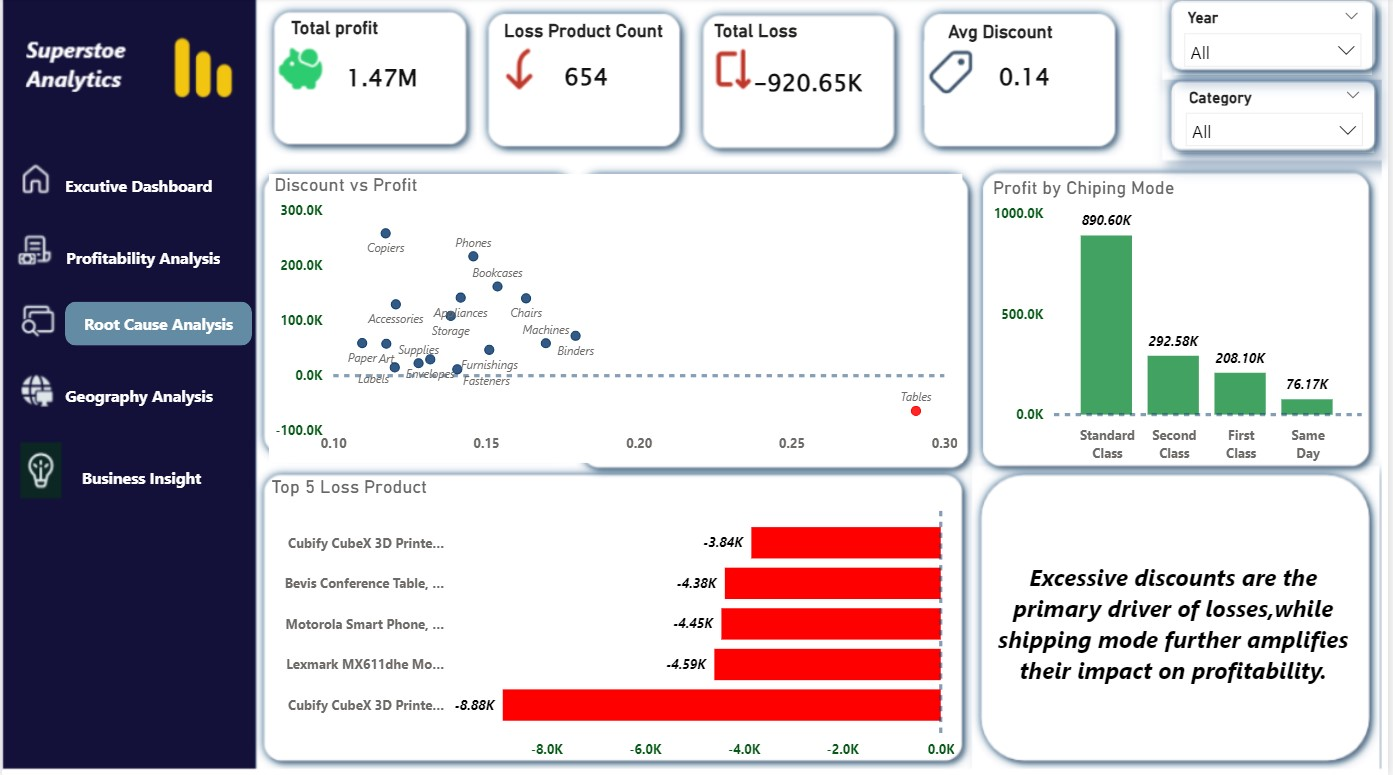

What the dashboard file says about the page in this screenshot:
{"tool":"powerbi","page":{"name":"Root Cause Analysis","canvas":[1280,720],"ordinal":2},"visuals":[{"type":"shape","box":[19.7,151.4,213.5,46.9],"z":0},{"type":"shape","box":[57.5,281.6,172.6,40.9],"z":1000},{"type":"shape","box":[24.2,345.2,205.9,46.9],"z":2000},{"type":"shape","box":[24.2,420.9,210.5,45.4],"z":3000},{"type":"shape","box":[31.8,218,196.8,46.9],"z":4000},{"type":"scatterChart","title":"Discount vs Profit","fields":{"Category":["Dim_product.Sub-Category"],"X":["Avg(Fact_sales.Discount)"],"Y":["Sum(Fact_sales.Profit)"]},"box":[246.7,163.3,640,266.7],"z":5000},{"type":"cardVisual","title":"Total profit","fields":{"Data":["measuress.total profit"]},"box":[262,18.2,178.7,92.4],"z":6000},{"type":"slicer","fields":{"Values":["Date.Year"]},"box":[1081.7,5,183.3,66.7],"z":7000},{"type":"slicer","fields":{"Values":["Dim_product.Category"]},"box":[1083.3,78.3,183.3,65],"z":8000},{"type":"cardVisual","title":"Total Loss","fields":{"Data":["measuress.Total Loss"]},"box":[652.6,21.2,184.7,96.9],"z":9000},{"type":"cardVisual","title":"Avg Discount","fields":{"Data":["Avg(Fact_sales.Discount)"]},"box":[868.3,21.7,151.7,81.7],"z":10000},{"type":"cardVisual","title":"Loss Product Count","fields":{"Data":["measuress.loss product count"]},"box":[458.8,21.2,162,86.3],"z":11000},{"type":"columnChart","title":"Profit by Chiping Mode","fields":{"Category":["Fact_sales.Ship Mode"],"Y":["Sum(Fact_sales.Profit)"]},"box":[910,166.7,350,270],"z":12000},{"type":"clusteredBarChart","title":"Top 5 Loss Product","fields":{"Y":["Sum(Fact_sales.Profit)"],"Category":["Fact_sales.Discount Rangr"]},"box":[243.8,442.1,640.5,271],"z":13000},{"type":"shape","box":[905.5,448.2,351.3,257.4],"z":14000}]}

Visuals, with their boxes in screenshot pixels (x1, y1, x2, y2), scaled from the page's 1280x720 canvas onto the 1393x775 screenshot:
shape: l=21, t=163, r=254, b=213
shape: l=63, t=303, r=250, b=347
shape: l=26, t=372, r=250, b=422
shape: l=26, t=453, r=255, b=502
shape: l=35, t=235, r=249, b=285
"Discount vs Profit" scatterChart: l=268, t=176, r=965, b=463
"Total profit" cardVisual: l=285, t=20, r=480, b=119
slicer - Date.Year: l=1177, t=5, r=1377, b=77
slicer - Dim_product.Category: l=1179, t=84, r=1378, b=154
"Total Loss" cardVisual: l=710, t=23, r=911, b=127
"Avg Discount" cardVisual: l=945, t=23, r=1110, b=111
"Loss Product Count" cardVisual: l=499, t=23, r=676, b=116
"Profit by Chiping Mode" columnChart: l=990, t=179, r=1371, b=470
"Top 5 Loss Product" clusteredBarChart: l=265, t=476, r=962, b=768
shape: l=985, t=482, r=1368, b=759
